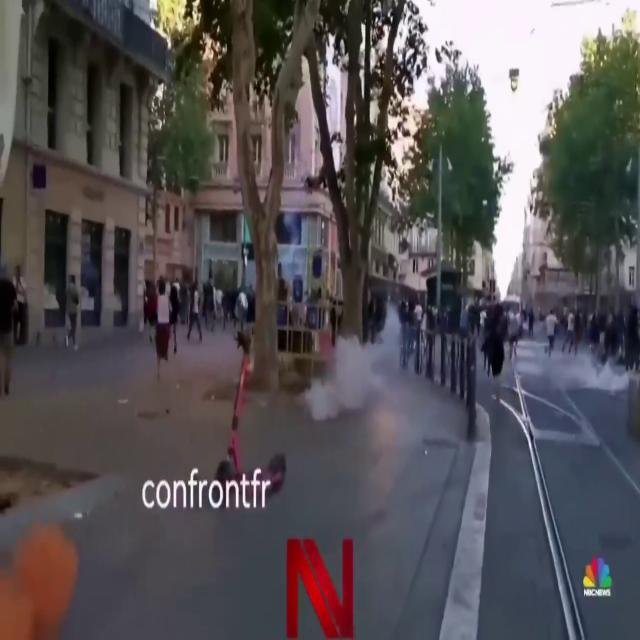Smoke: (308, 302, 408, 436)
